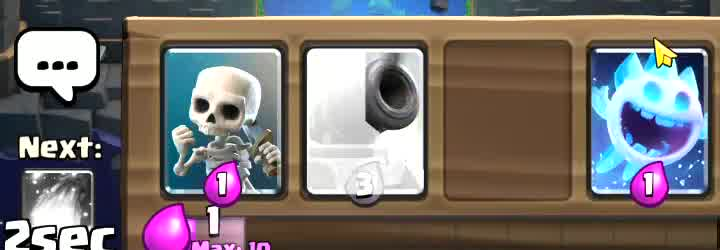ice-spirit: (587, 50, 706, 200)
